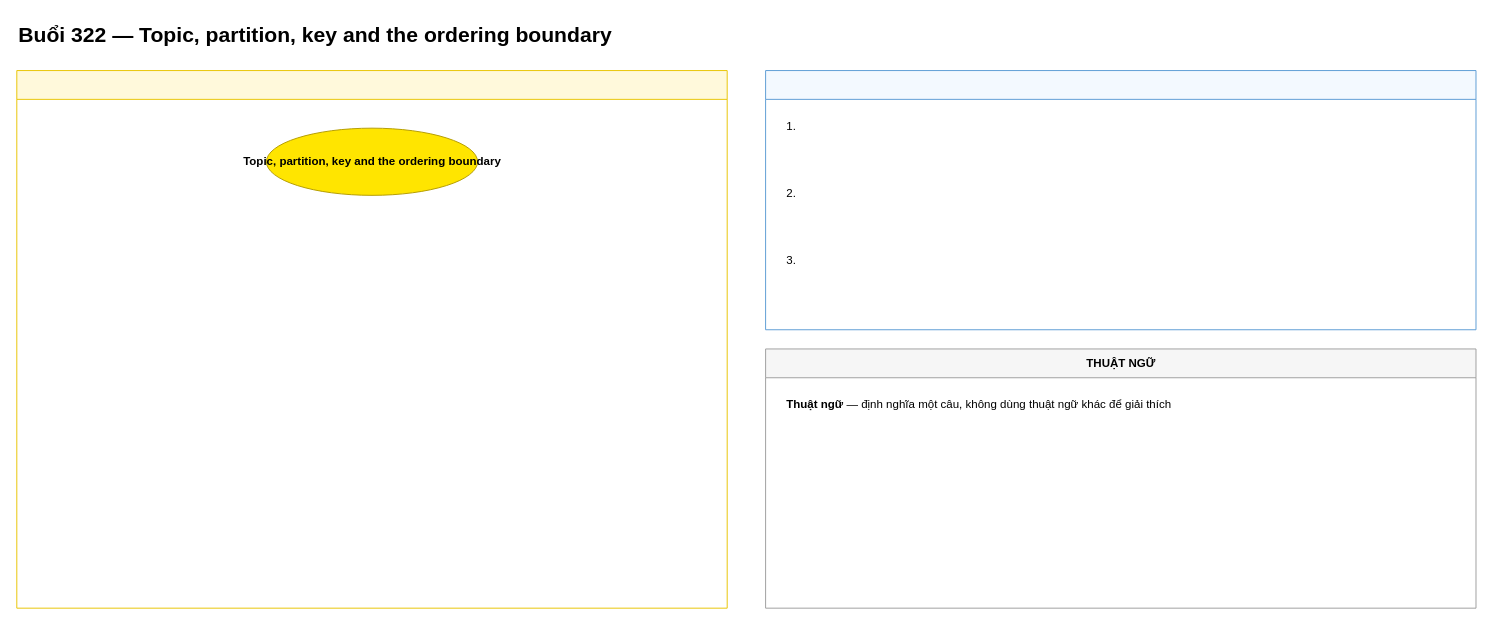
This 1493x625 diagram has some shape labels left out. The box of each missing label's shape, as (x1, y1, x2, y2) in pixels:
KEY TAKEAWAY — ba điều phải nhớ: (765, 70, 1476, 330)
MINDMAP: (16, 70, 727, 608)
